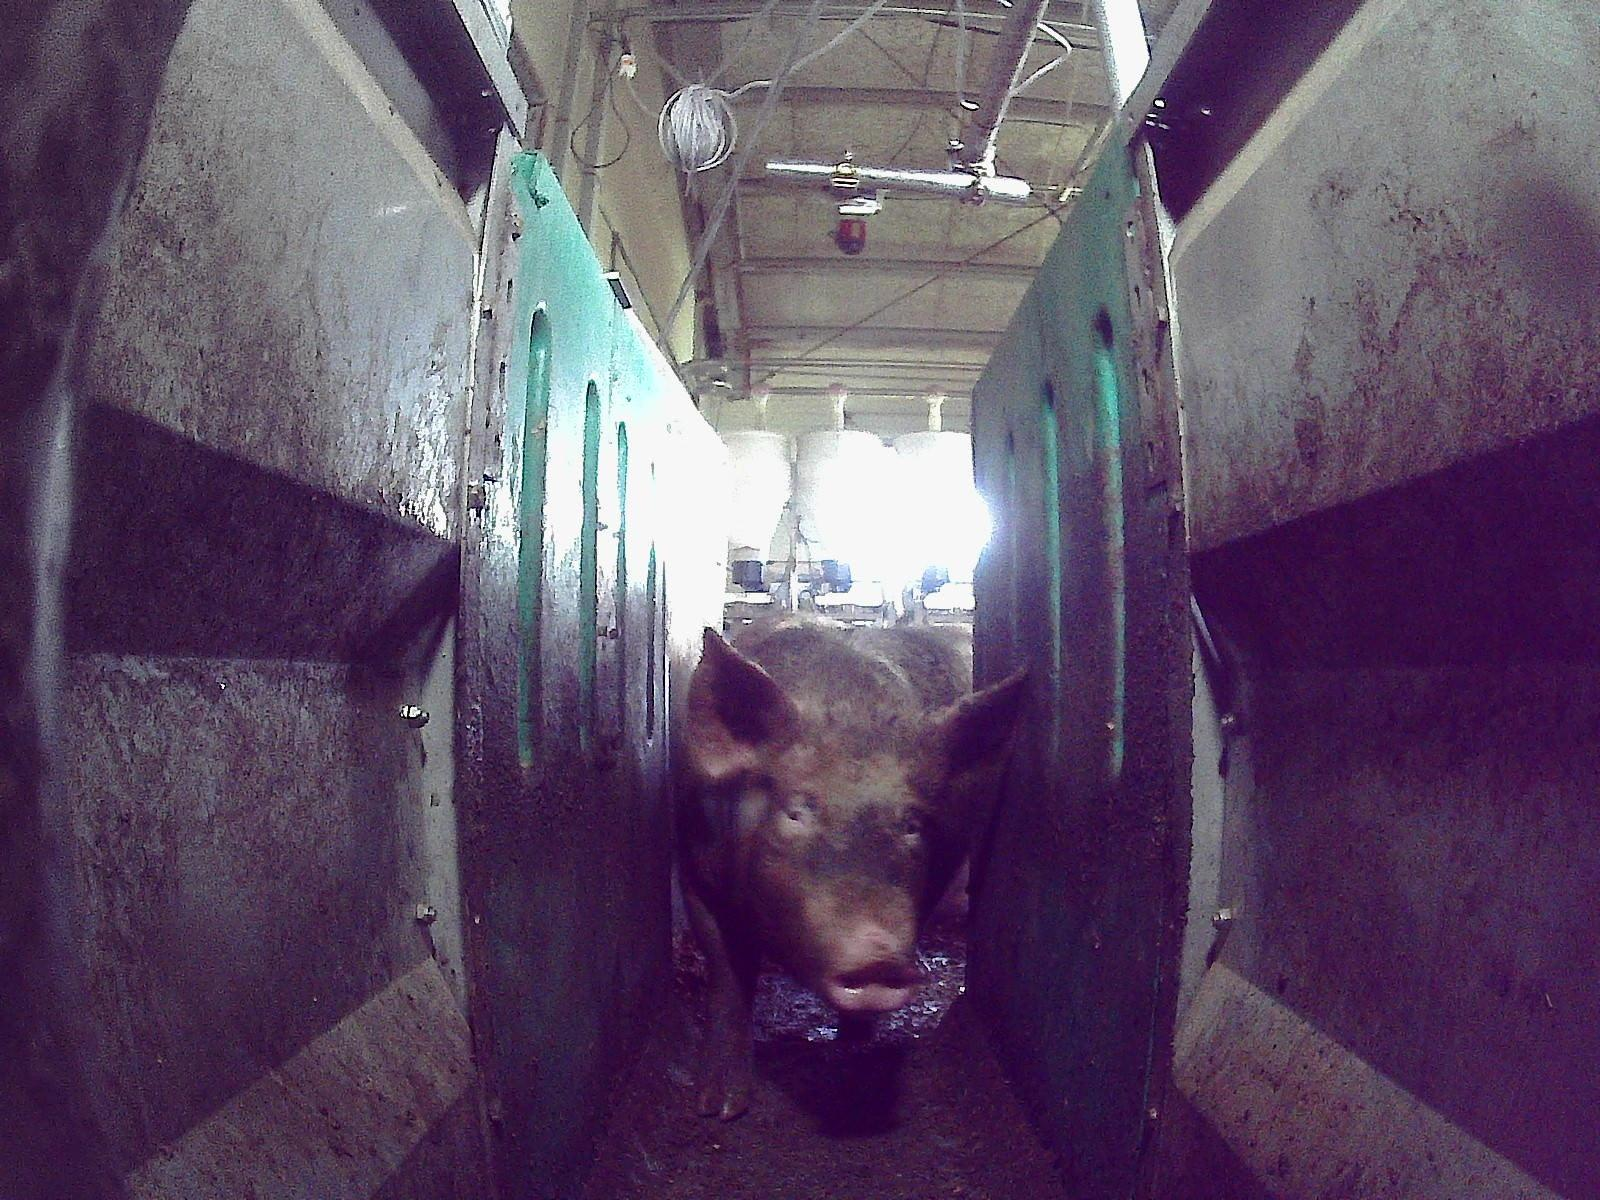Face: (749, 717, 936, 1012)
